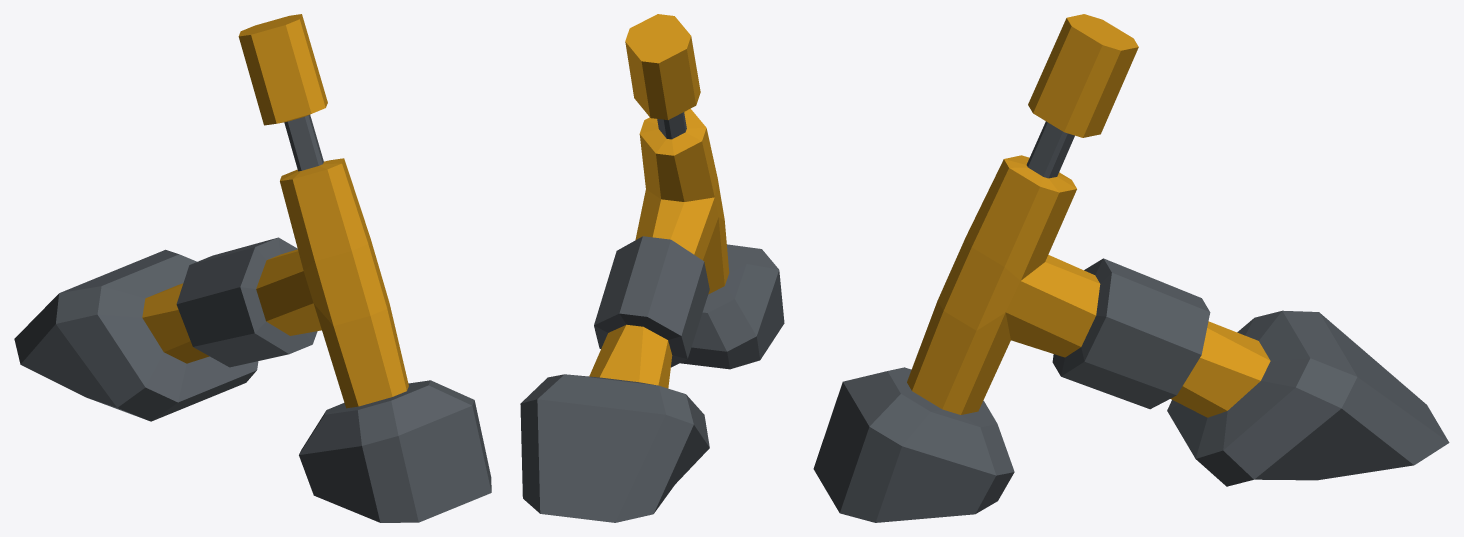
File: Dropship_04_Lander_Rear_Right_Yellow.fbx
3 renders of one model, left to right at view 1: azimuth 30°, elevation 25°; view 2: azimuth 150°, elevation 25°; view 3: azimuth 270°, elevation 25°, orthographic. The views are drawn at different scales.
Visible parts, largest first — view 1: Dropship_04_Lander_Rear_Right_Yellow; view 2: Dropship_04_Lander_Rear_Right_Yellow; view 3: Dropship_04_Lander_Rear_Right_Yellow.
Boxes of the visible parts, x1,y1,x2,y2 form: Dropship_04_Lander_Rear_Right_Yellow: (14, 14, 491, 522); Dropship_04_Lander_Rear_Right_Yellow: (520, 14, 784, 522); Dropship_04_Lander_Rear_Right_Yellow: (813, 14, 1449, 522).
Bounding box in the file's own units: 136 × 227 × 289.
Materials: 1 (1 with a texture image).
